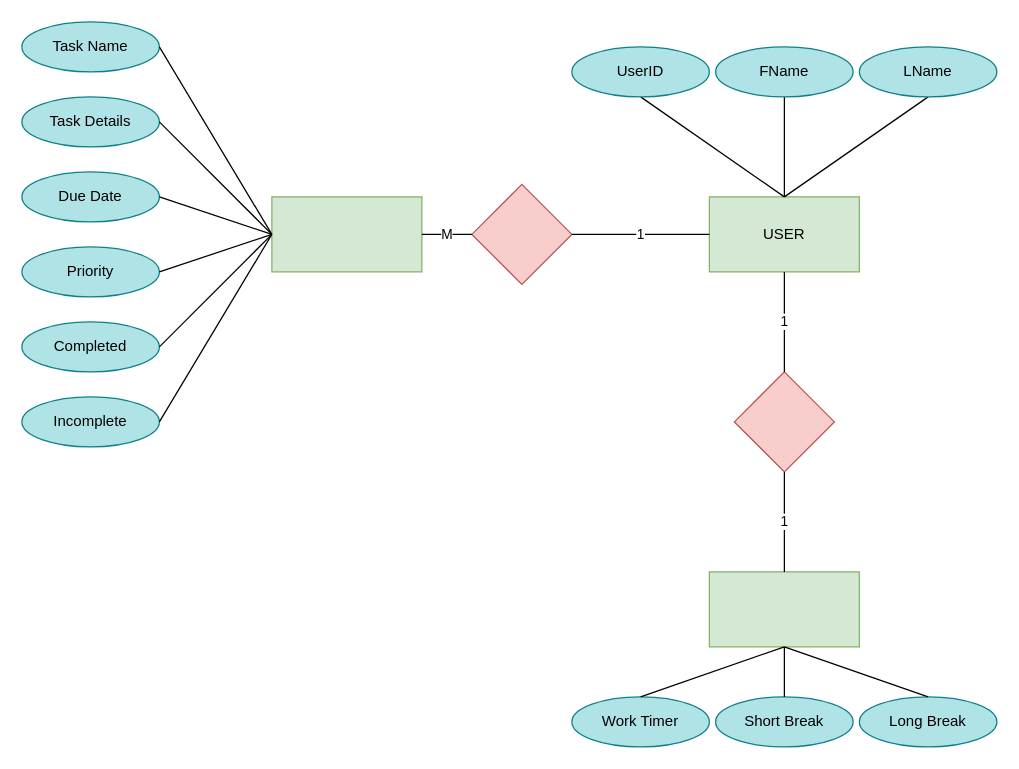
The diagram is 1019 pixels wide and 769 high, and some of its shapes have lost their labels. Here are the shapes that lost their labels. From the top down, the centre of each, then its label:
At point 346,234: "TASK".
At point 521,233: "CREATES".
At point 783,421: "MANAGES".
At point 783,609: "Pomotimer".
